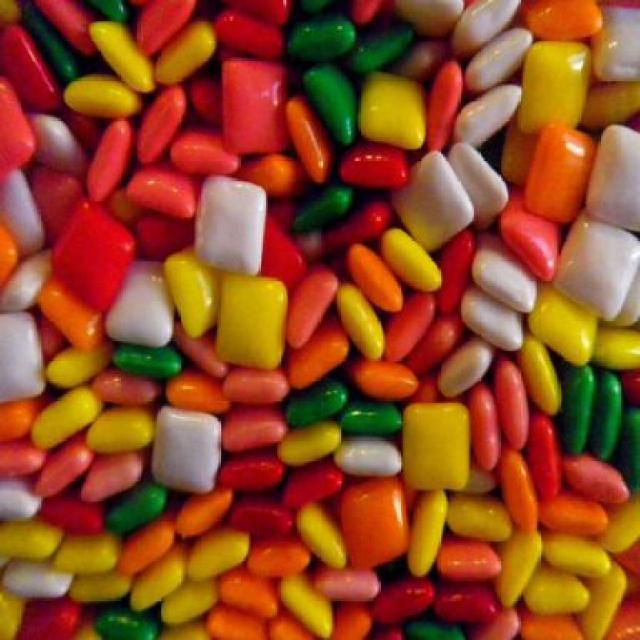Candy: (23, 0, 632, 638)
